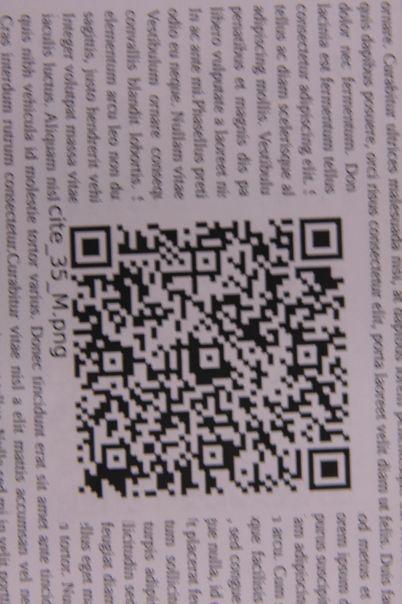Finder pattern: (291, 211, 349, 268), (299, 444, 356, 498), (65, 221, 117, 274)
